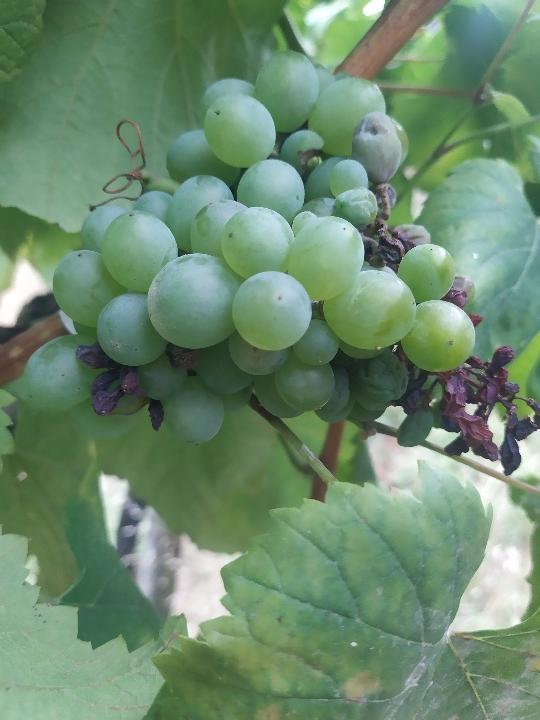grape: (20, 46, 540, 482)
